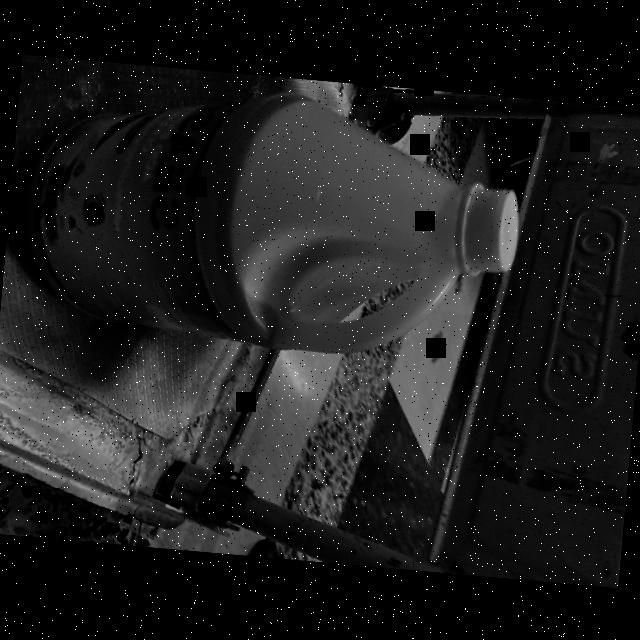chemical_plastic_gallon: (11, 65, 528, 372)
